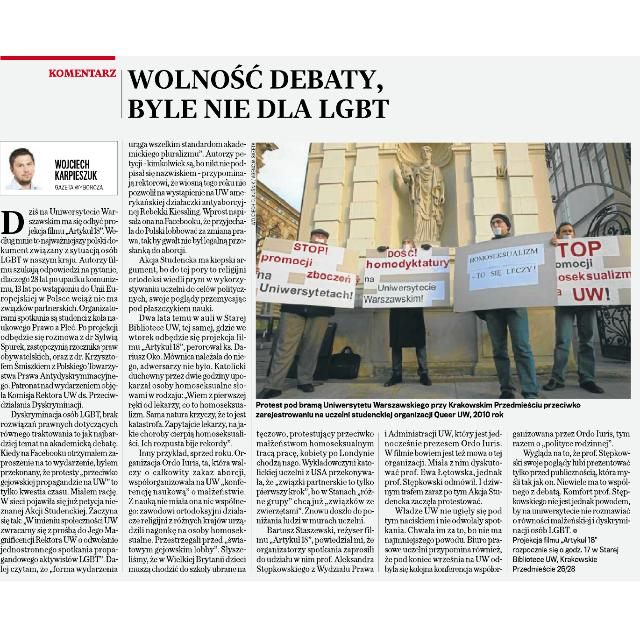author: (52, 157, 102, 181)
body: (125, 138, 249, 576), (0, 203, 121, 577), (253, 426, 375, 574), (382, 426, 504, 572), (510, 424, 634, 534)
caption: (255, 400, 599, 422)
image: (254, 138, 632, 400)
title: (46, 64, 396, 124)
